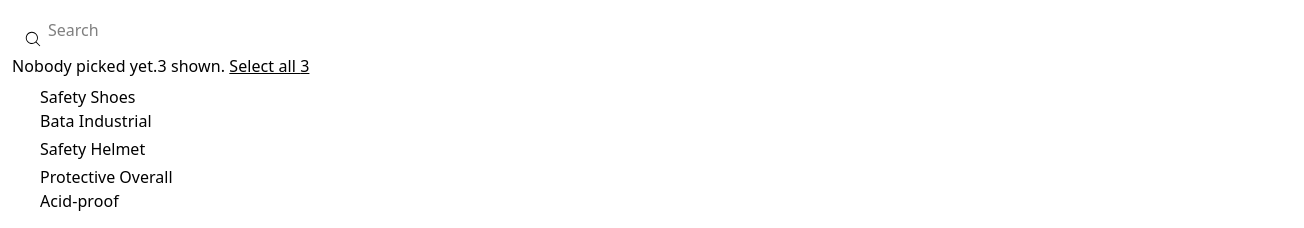
Scenario: OptionChecklist › searches label, description and value
In the search field named "Search PPE types": (652, 30) top-left (12, 12), bottom-right (1292, 48), type "acid"
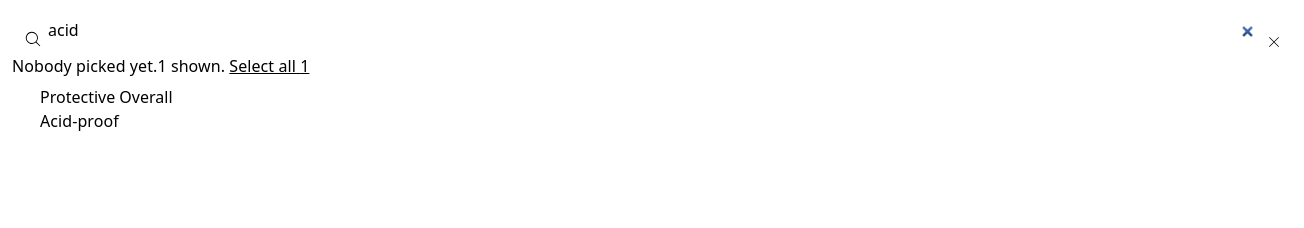
Expected: the label "Safety Shoes" is gone
Replace the text in the search field named "Search PPE types" with "zzz": (652, 30) top-left (12, 12), bottom-right (1292, 48)
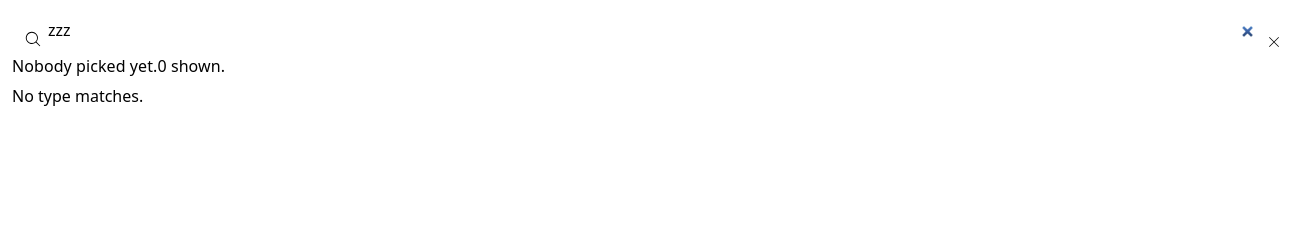
Expected: the text "No type matches." is shown, top-left (12, 85), bottom-right (143, 107)
